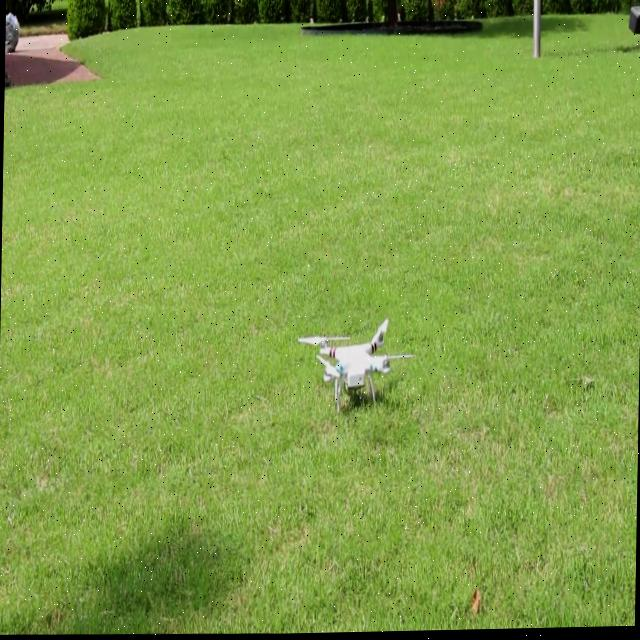drone: (295, 316, 413, 418)
